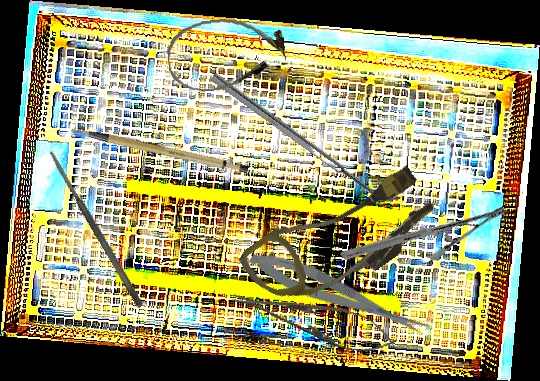Cannula: (235, 146, 447, 332), (164, 13, 289, 95)
Micro Scissor: (244, 241, 433, 349)
Needle Holder: (339, 149, 508, 317), (227, 277, 402, 363)
Scalpel Handle: (70, 100, 251, 196)
Spatula Surgical: (210, 66, 401, 211), (46, 147, 145, 310)
